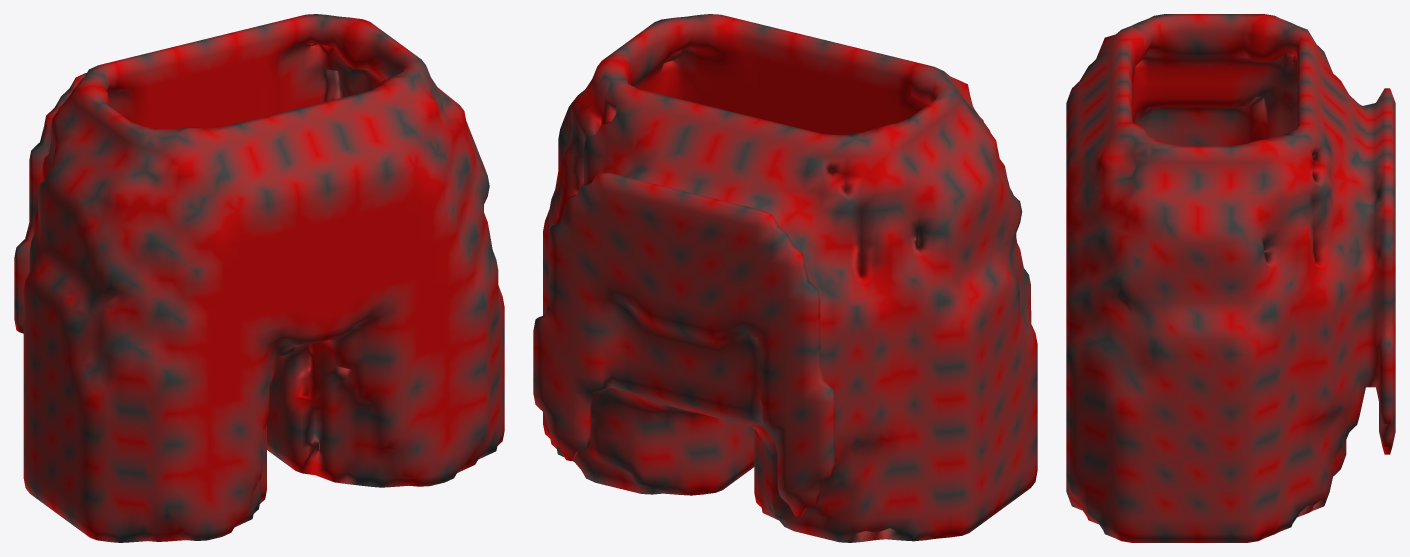
The picture shows the model from 3 angles, left to right: view 1: azimuth 30°, elevation 25°; view 2: azimuth 150°, elevation 25°; view 3: azimuth 270°, elevation 25°; orthographic projection. The views are drawn at different scales.
Size of the model in its own units: 1.4 by 1.25 by 1.
